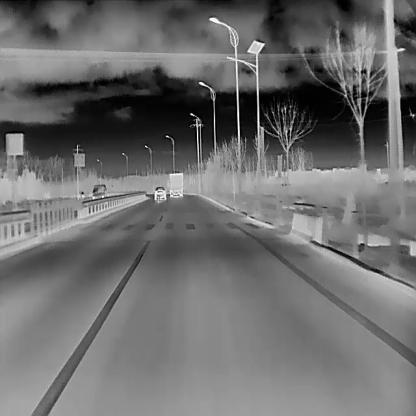car: (152, 186, 166, 200)
truck: (168, 172, 183, 198), (90, 184, 106, 200)
